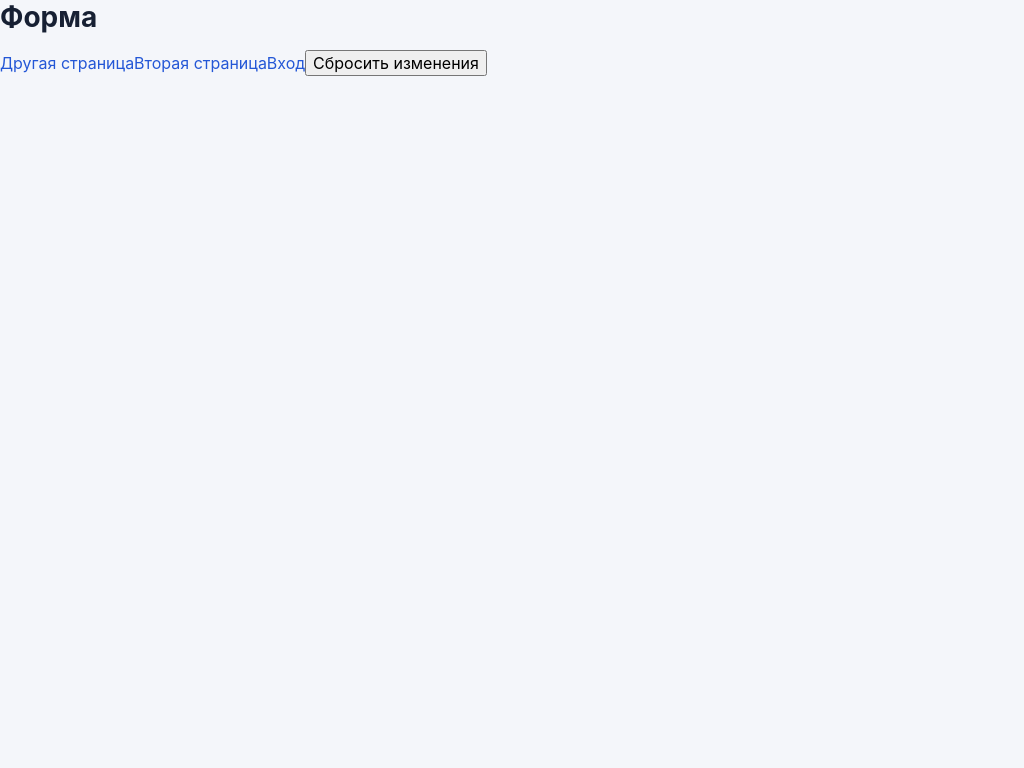
Test: UnsavedChangesGuard › stays on the form when the user chooses to stay
Click the link "Другая страница" at (67, 63), box [0, 53, 134, 73]
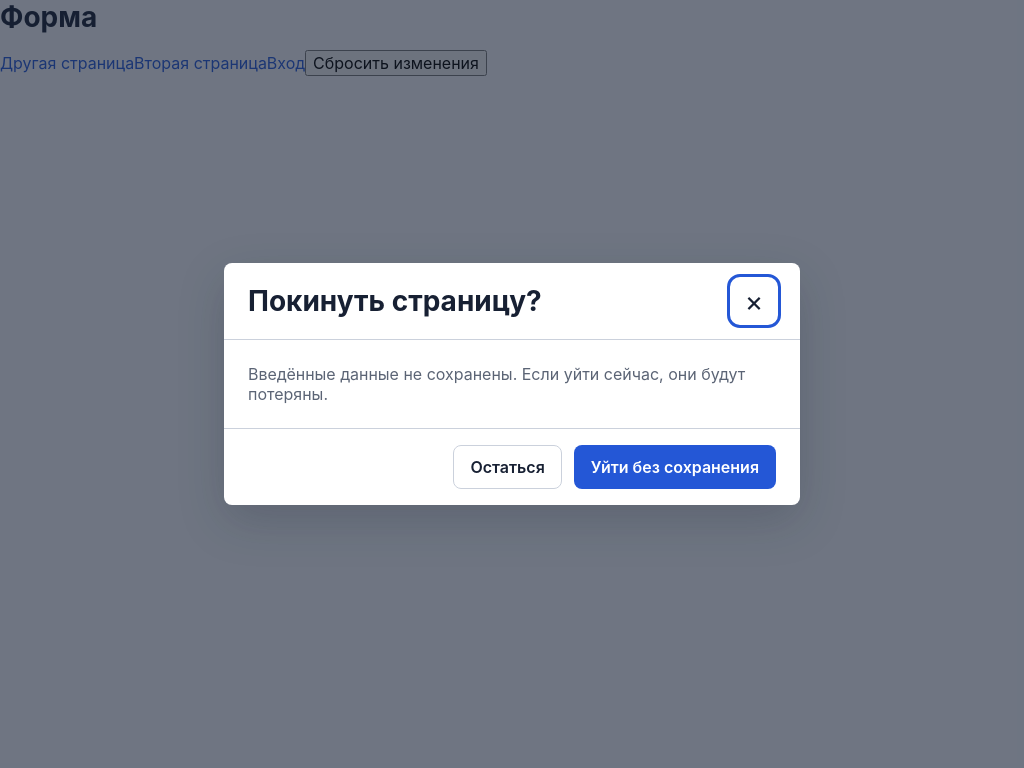
Expected: the dialog is shown, [224, 263, 800, 505]
Click the button "Остаться" at (508, 467), box [453, 445, 562, 489]
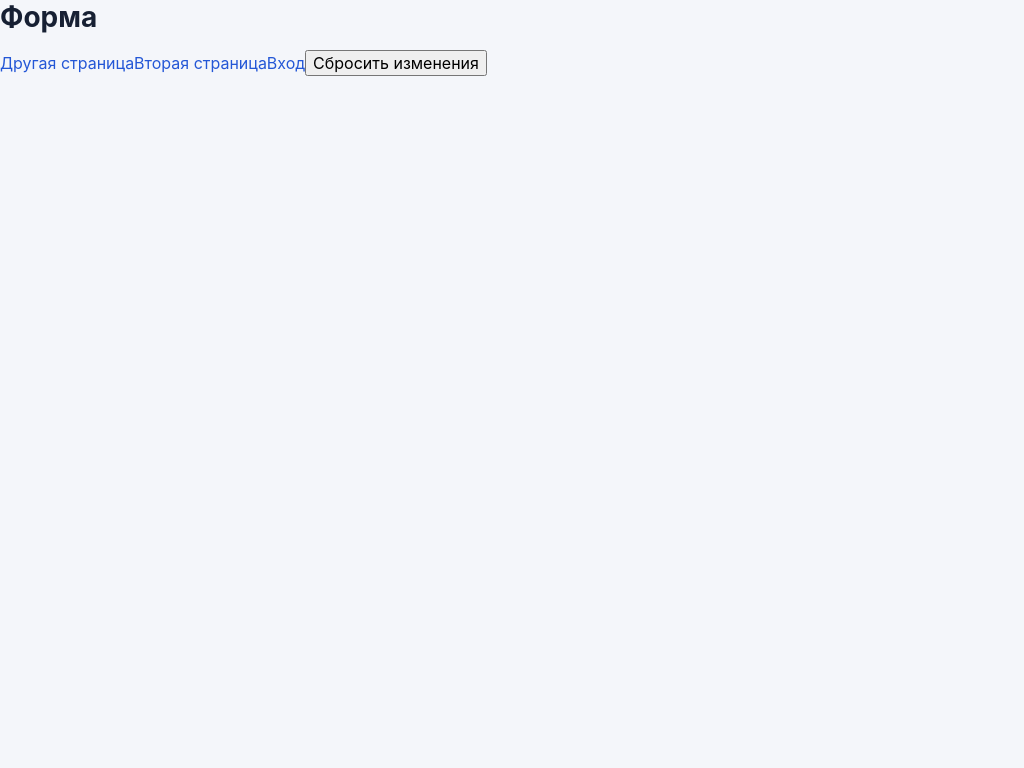
Expected: the heading "Форма" is shown, [0, 0, 97, 34]
Expected: the dialog is gone
